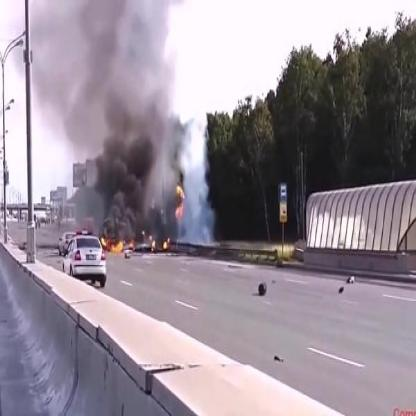fire: (101, 234, 138, 256), (142, 229, 158, 254), (175, 182, 185, 220), (162, 234, 174, 250)
